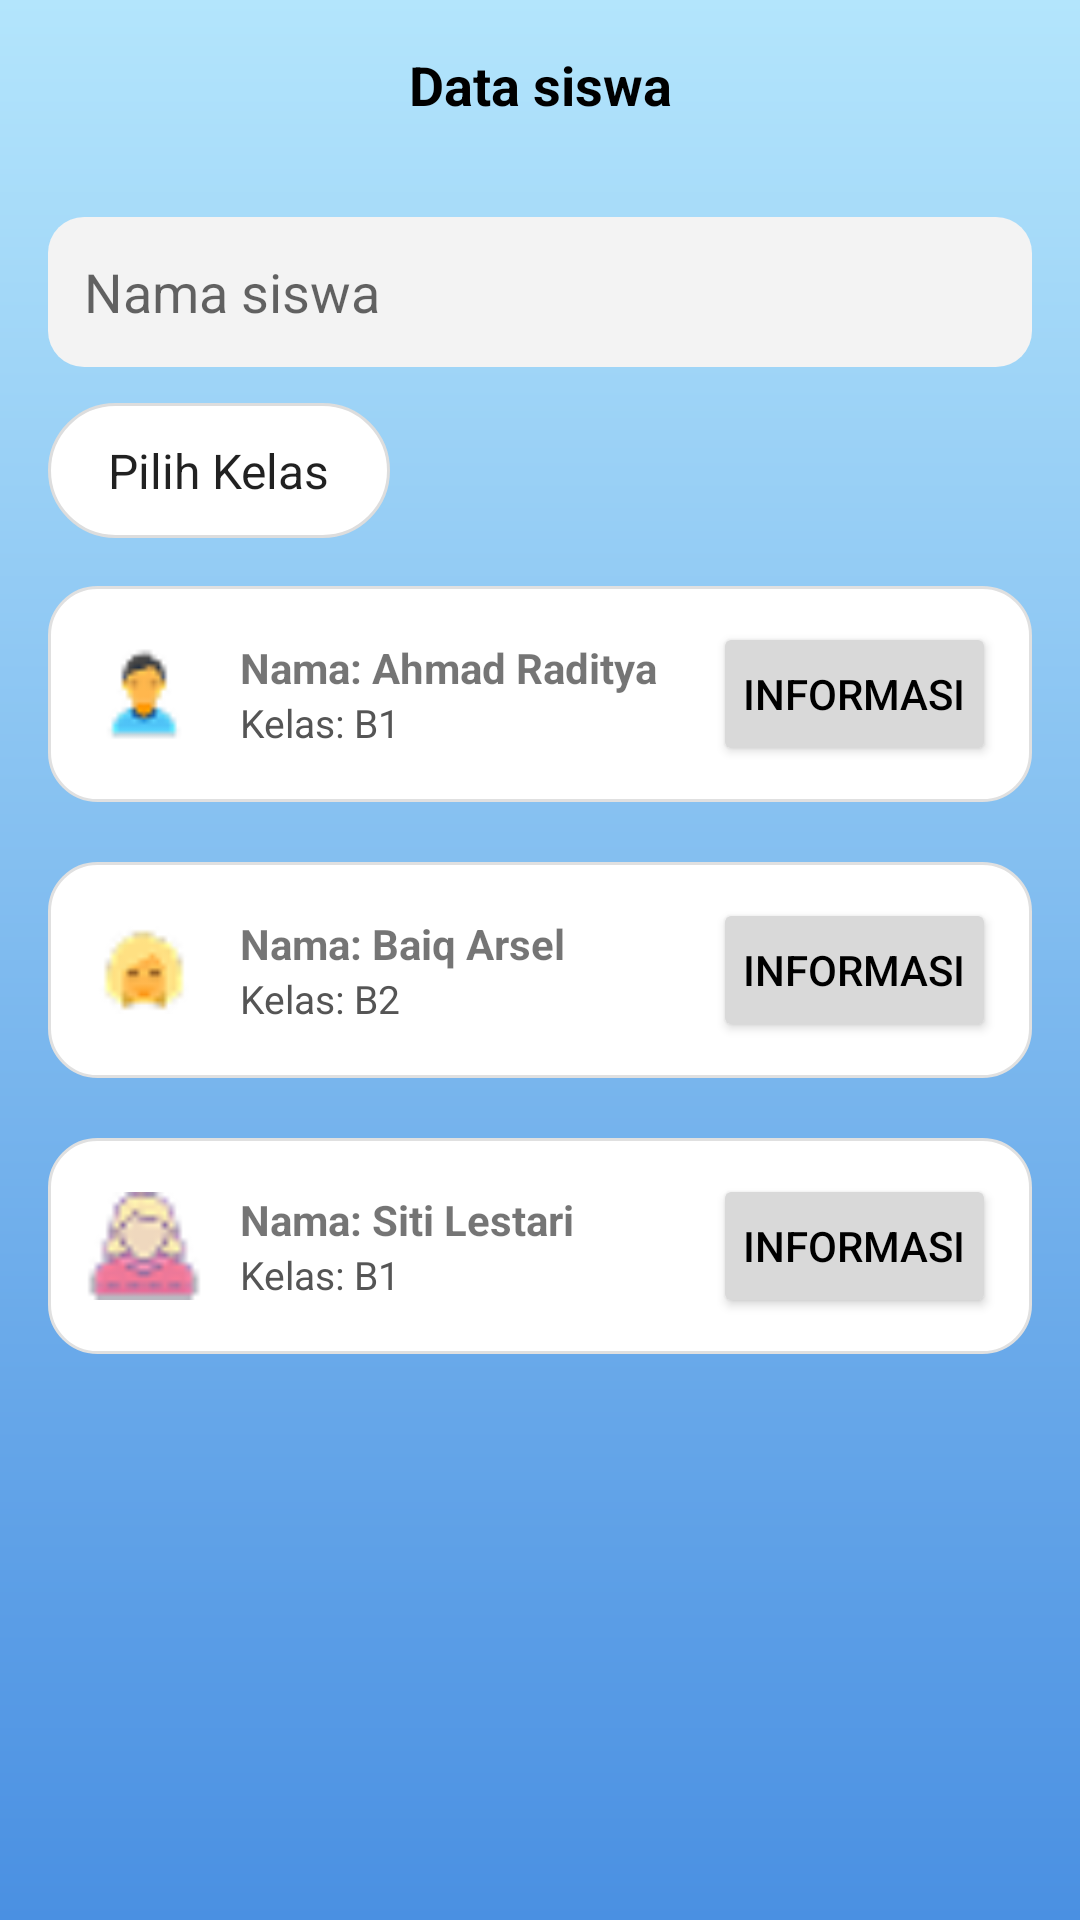

Named icons in this screenshot (1080 x 1920) and their bounding boxes, BBox(x1, y1, x2, y2):
student: BBox(111, 650, 177, 738), BBox(104, 930, 184, 1010), BBox(89, 1192, 199, 1300)
